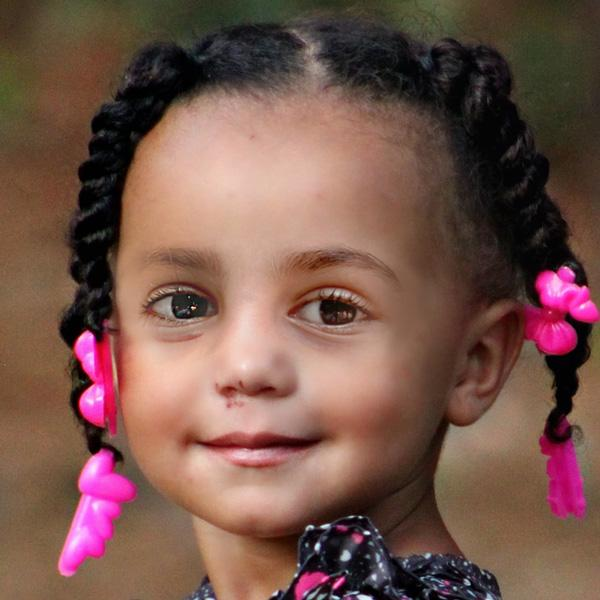Eyes: (269, 273, 378, 342), (129, 271, 225, 339)
